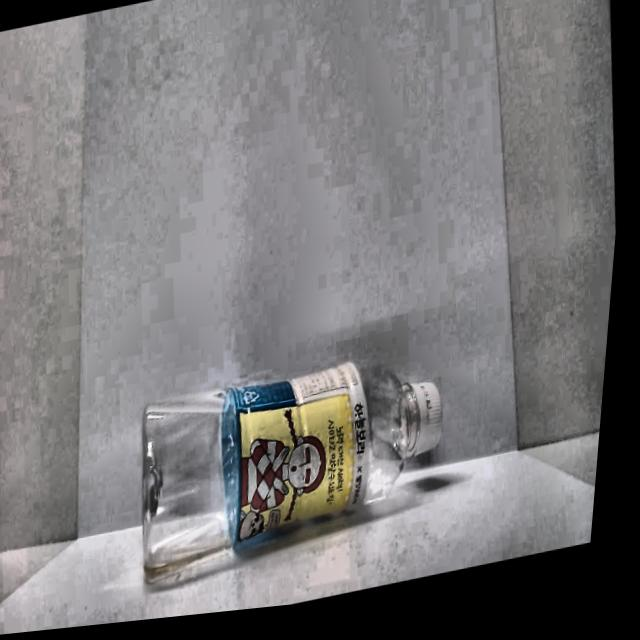Bottles: (117, 324, 475, 587)
